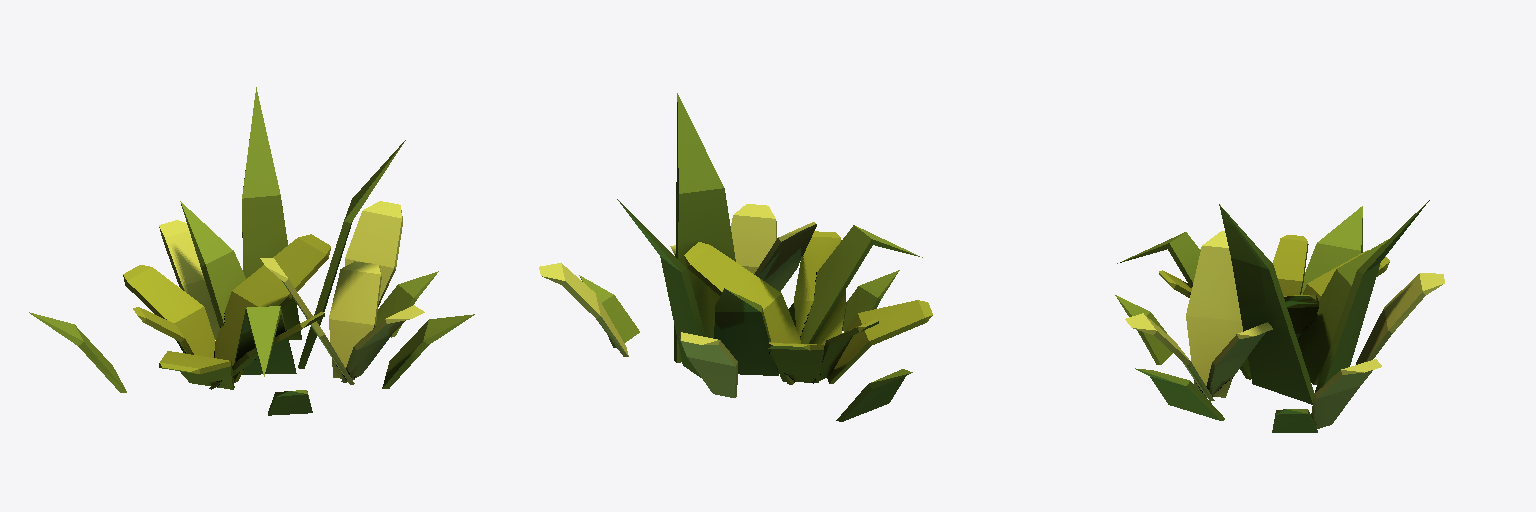
The picture shows the model from 3 angles: view 1: azimuth 30°, elevation 25°; view 2: azimuth 150°, elevation 25°; view 3: azimuth 270°, elevation 25°; orthographic projection.
Visible parts, largest first — view 1: grass; view 2: grass; view 3: grass.
Part boxes in pixels (x1,y1,x2,y2): grass: (29,87,474,415); grass: (539,93,932,421); grass: (1115,200,1444,432).
Size of the model in its own units: 1.82 by 1.03 by 1.39.
Materials: 1 (1 with a texture image).